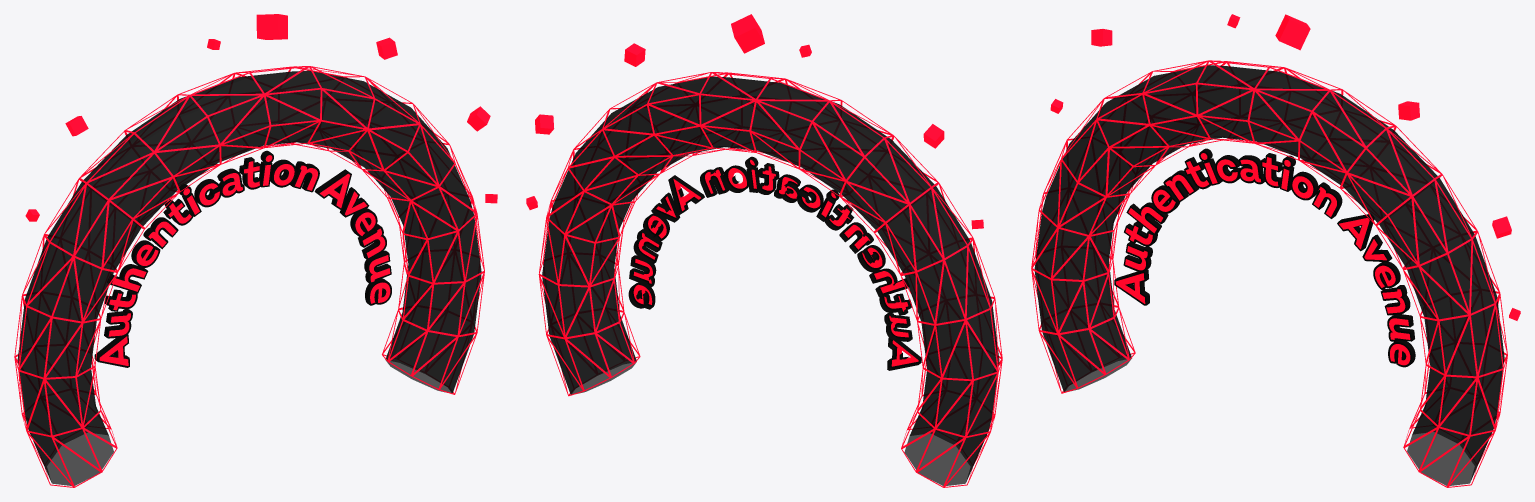
Rendered from TU_Gate_01.fbx.
3 renders of one model, left to right at view 1: azimuth 30°, elevation 25°; view 2: azimuth 150°, elevation 25°; view 3: azimuth 330°, elevation 25°, orthographic. The views are drawn at different scales.
Parts seen in each view (by area): view 1: interior, wireframe, AA, Cube.003; view 2: interior, wireframe, AA, Cube.003; view 3: interior, wireframe, AA, Cube.003.
Part boxes in pixels (box(x1,y1,x2,y2)): interior: box(17, 70, 481, 485); wireframe: box(14, 66, 484, 487); AA: box(94, 150, 391, 367); Cube.003: box(25, 14, 497, 221); interior: box(542, 76, 999, 485); wireframe: box(538, 72, 1002, 487); AA: box(628, 156, 921, 370); Cube.003: box(526, 14, 983, 229); interior: box(1034, 65, 1504, 485); wireframe: box(1031, 60, 1507, 487); AA: box(1114, 148, 1415, 367); Cube.003: box(1050, 14, 1520, 320).
Bounding box in the file's own units: 1868 × 1566 × 284.
